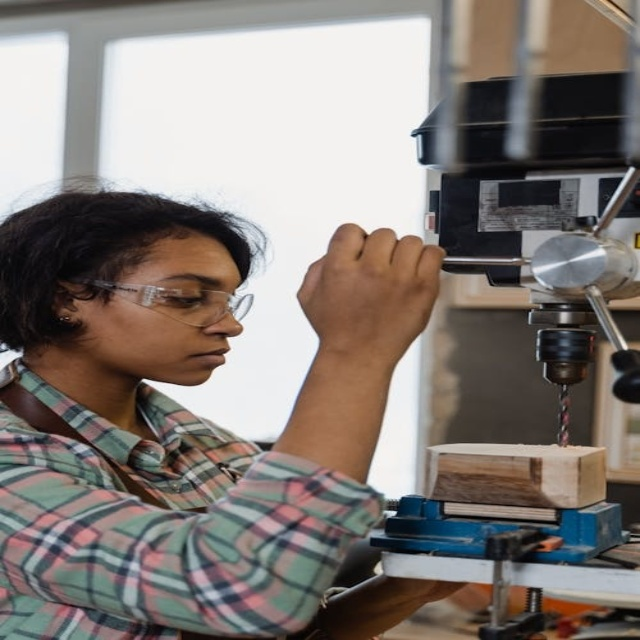Gafas: (71, 278, 253, 327)
Sin_guantes: (305, 215, 440, 346)
Sin_mascara: (164, 342, 234, 383)
